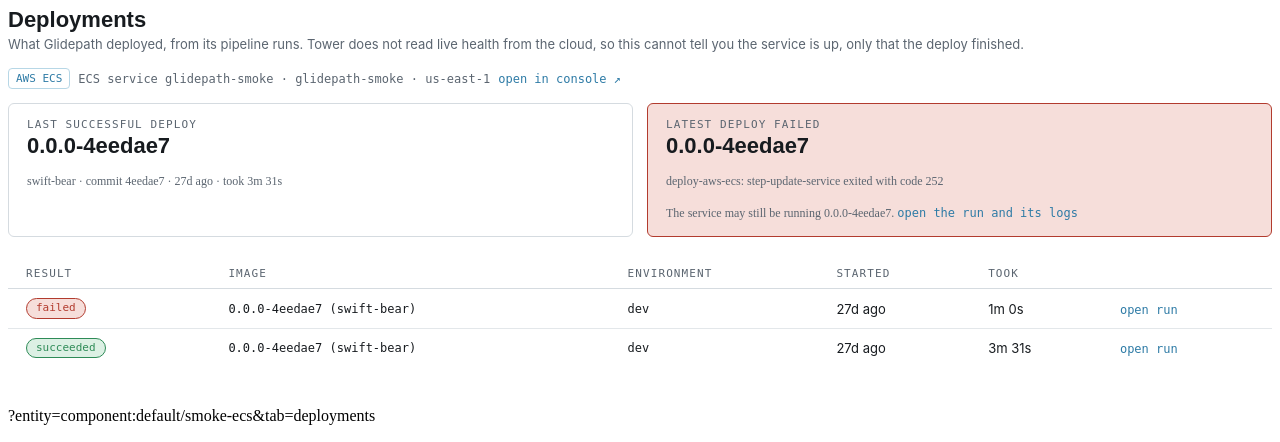
Test: CloudDeploymentsTab › a failed latest deploy says the cloud may still run the previous image, and links to the run
The image size is (1280, 442).
Check: the text "Latest deploy failed" is shown, box [666,118,820,131]
Check: the text "deploy-aws-ecs: step-update-service exited with code 252" is shown, box [666,174,944,188]
Step 1. Click the button "open the run and its logs" → {"x": 988, "y": 213}, box [897,206,1078,220]
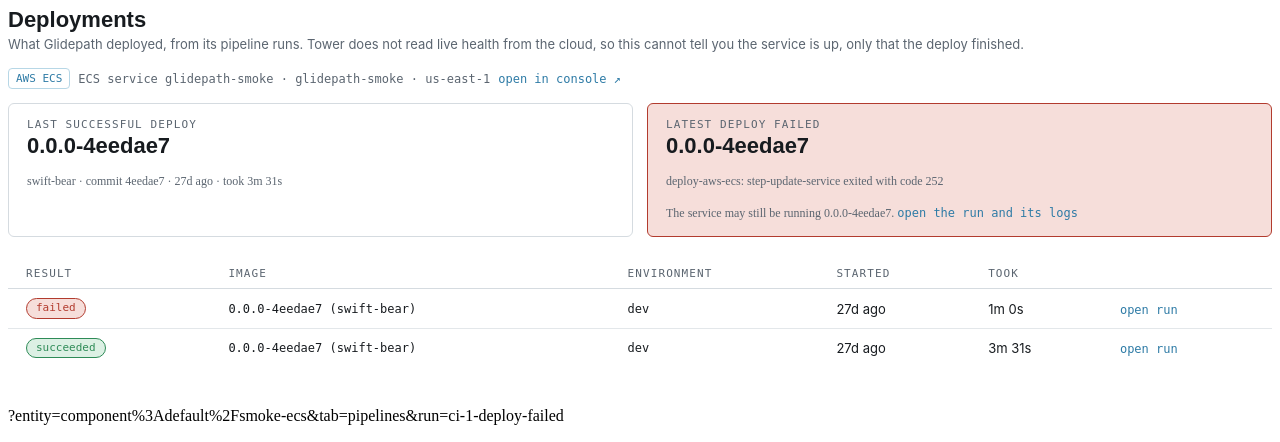
Check: the text with test id "loc" shows "tab=pipelines", box [8,407,564,424]
Check: the text with test id "loc" shows "run=ci-1-deploy-failed", box [8,407,564,424]
